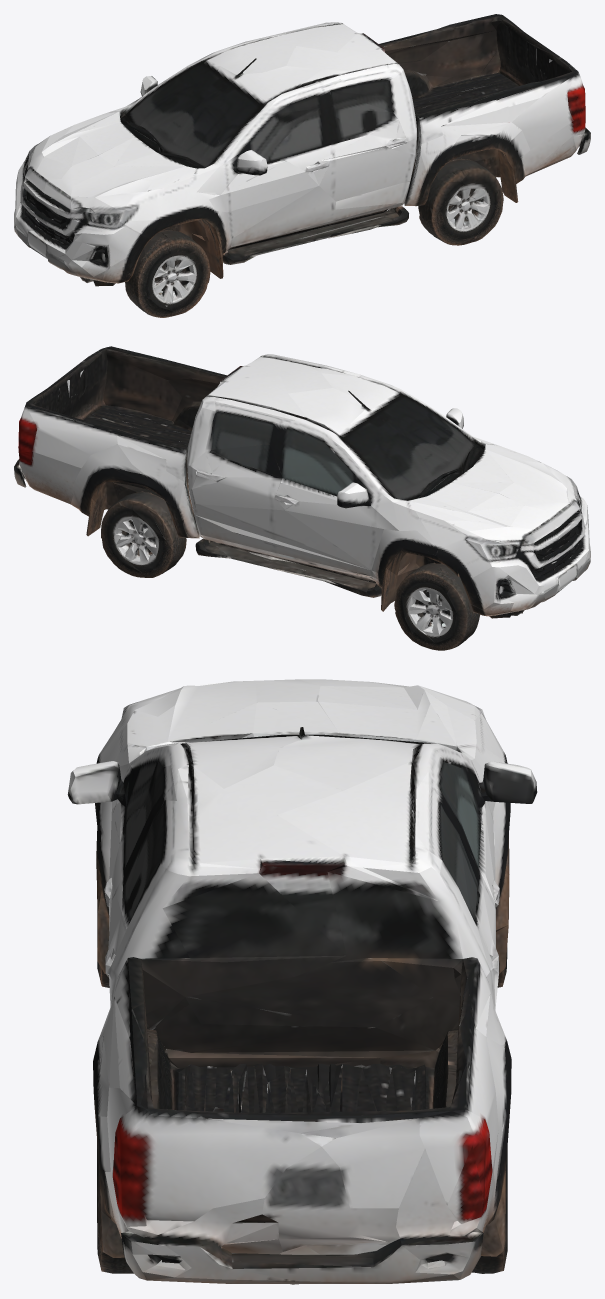
File: remeshed-pickup.glb
3 views of the same model, one above another, from view 1: azimuth 30°, elevation 25°; view 2: azimuth 150°, elevation 25°; view 3: azimuth 270°, elevation 25° (orthographic). The views are drawn at different scales.
Parts seen in each view (by area): view 1: output_unwrapped; view 2: output_unwrapped; view 3: output_unwrapped.
Part boxes in pixels (x1,y1,x2,y2): output_unwrapped: (14, 14, 590, 317); output_unwrapped: (14, 346, 590, 650); output_unwrapped: (67, 679, 537, 1284).
Size of the model in its own units: 1.9 by 0.6656 by 0.7439.
1 material, 1 textured.
